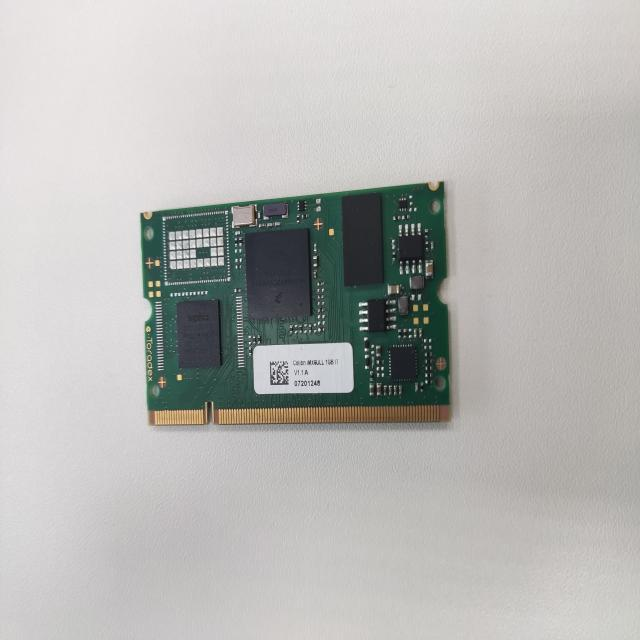som: (120, 175, 472, 442)
